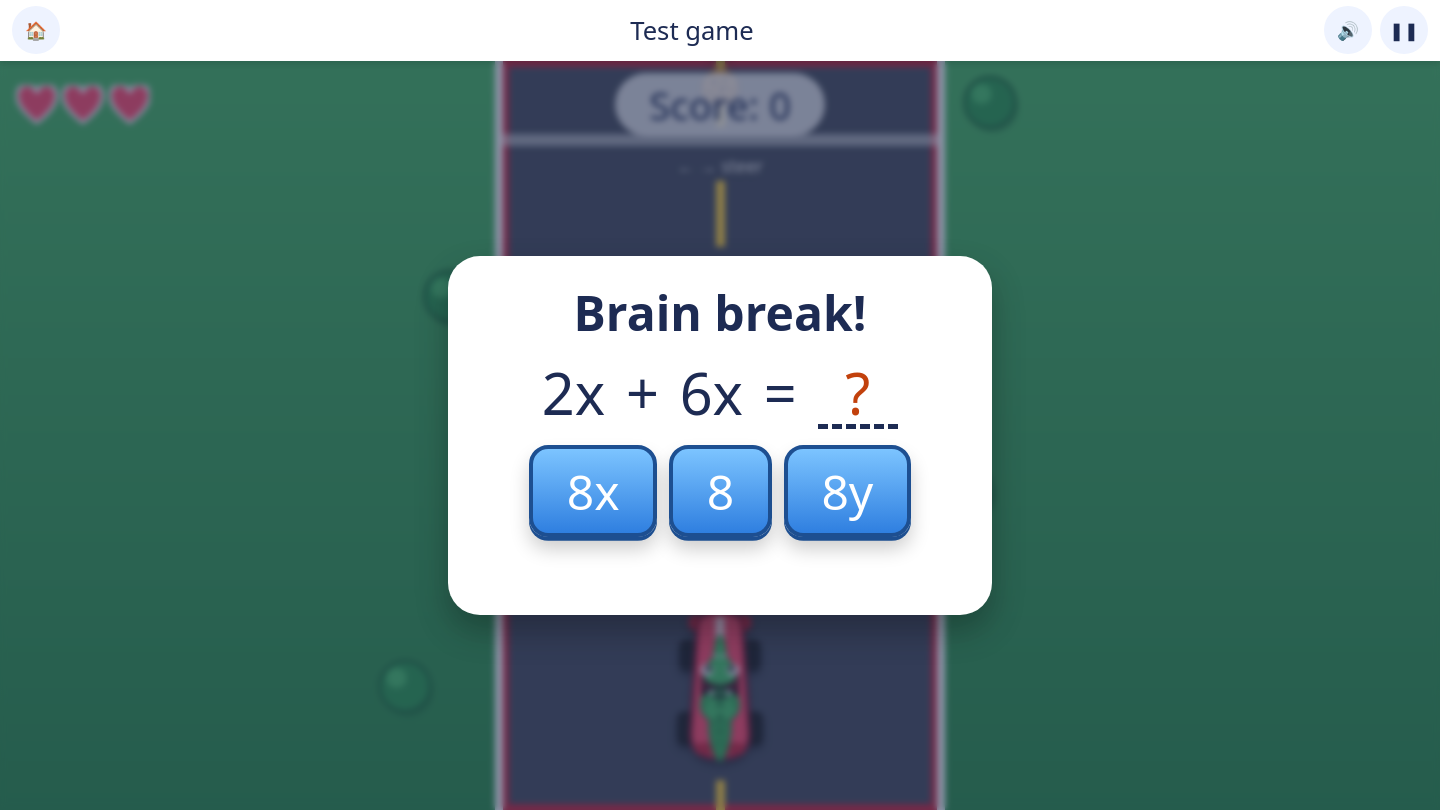
Test case: brain breaks › rewards the right answer first time with bonus cookies and explains why
Click the button "8x" at point(593, 491), box x1=529 y1=445 x2=657 y2=537
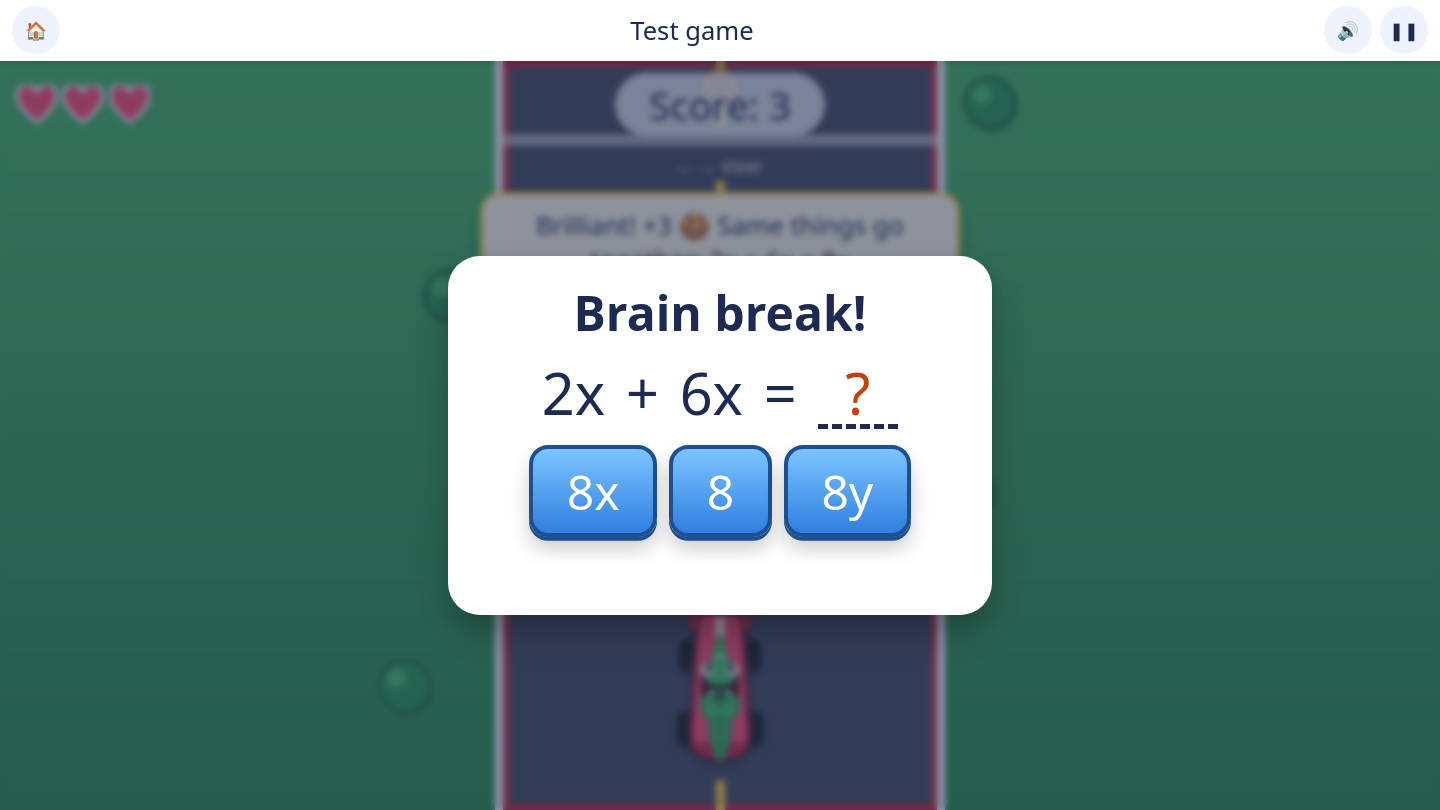
expect the text "Brilliant! +3 🍪 Same things go together: 2x + 6x = 8x" is shown: met, box x1=480 y1=192 x2=960 y2=294
